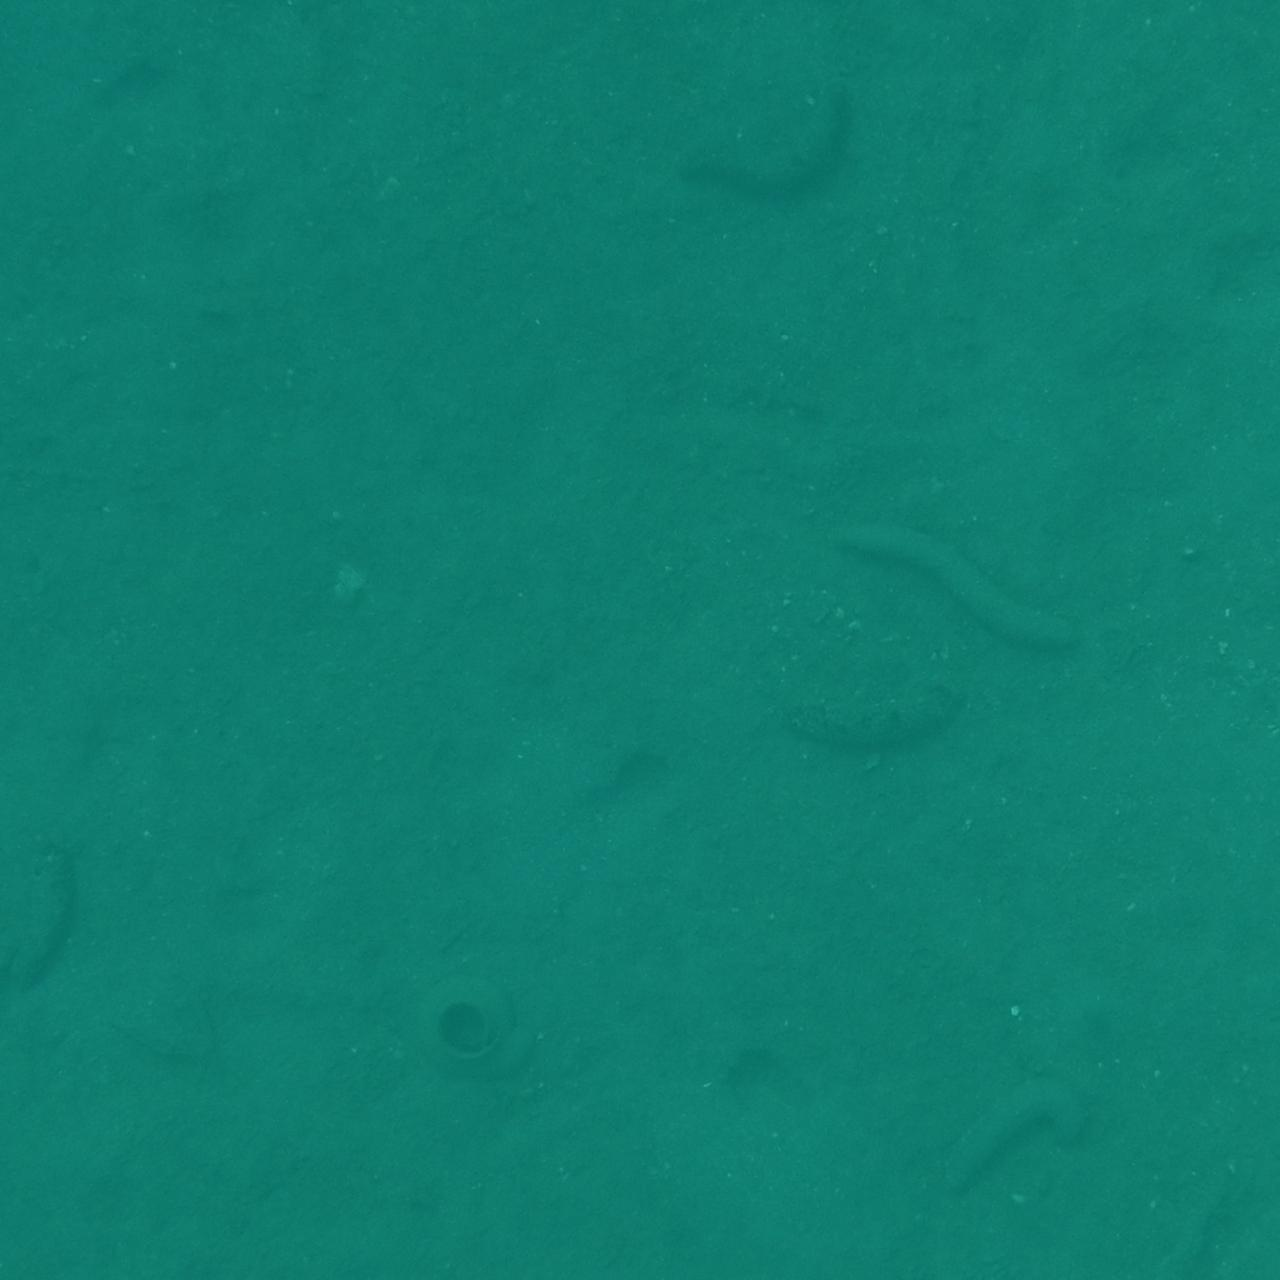Holothuria tubulosa: (835, 504, 1089, 663), (941, 1054, 1115, 1214), (1119, 298, 1280, 455), (745, 663, 971, 763), (697, 101, 877, 217), (142, 0, 382, 82), (549, 0, 686, 135), (0, 22, 52, 377), (744, 1155, 885, 1280), (0, 905, 105, 1068), (0, 839, 94, 1019), (0, 450, 113, 598), (0, 54, 151, 157), (1194, 858, 1280, 1037), (1152, 0, 1280, 113), (1167, 305, 1280, 429), (190, 1233, 486, 1280), (0, 0, 158, 79), (893, 0, 1049, 72), (1200, 0, 1280, 130), (0, 0, 105, 95), (1184, 0, 1280, 103), (591, 1167, 670, 1280), (1171, 0, 1280, 79), (1122, 1234, 1280, 1280), (1189, 1211, 1280, 1280), (1160, 1252, 1280, 1280)
